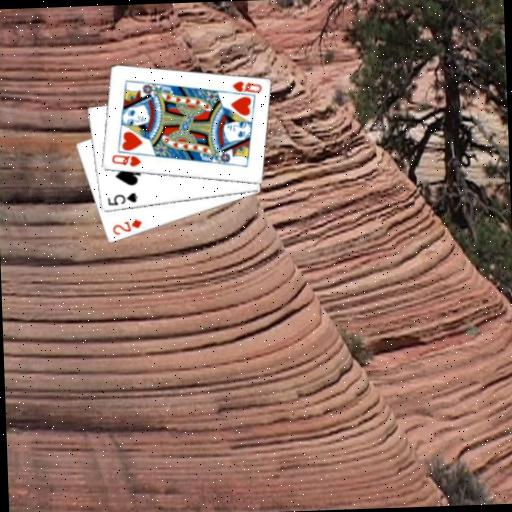2D: (109, 215, 143, 236)
5S: (104, 190, 139, 208)
QH: (224, 78, 263, 99), (108, 151, 142, 169)
